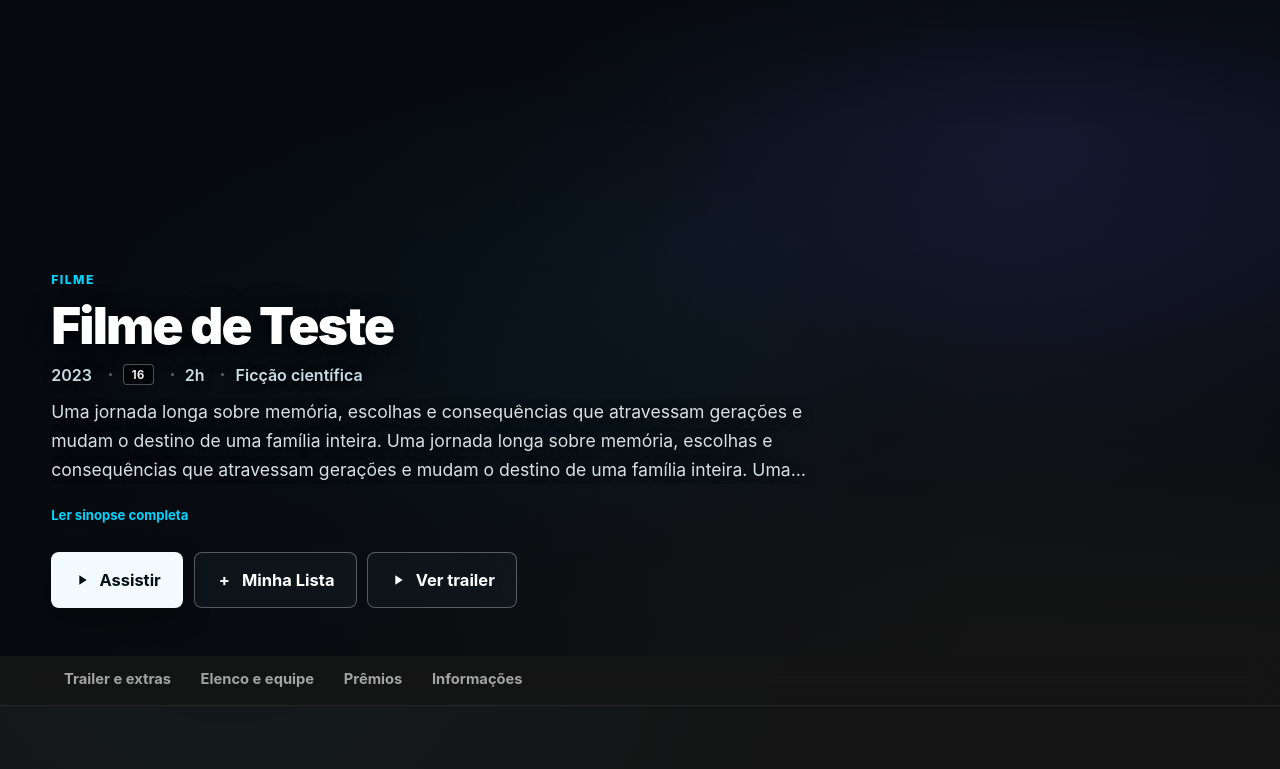
Test: organises film information, expands long synopses and hides empty episode sections
Expected: the heading "Filme de Teste" is shown, top-left (51, 294), bottom-right (393, 356)
Expected: the list item "2h" is shown, top-left (185, 365), bottom-right (236, 385)
Click the button "Ler sinopse completa" at (120, 515), box top-left (51, 496), bottom-right (188, 534)
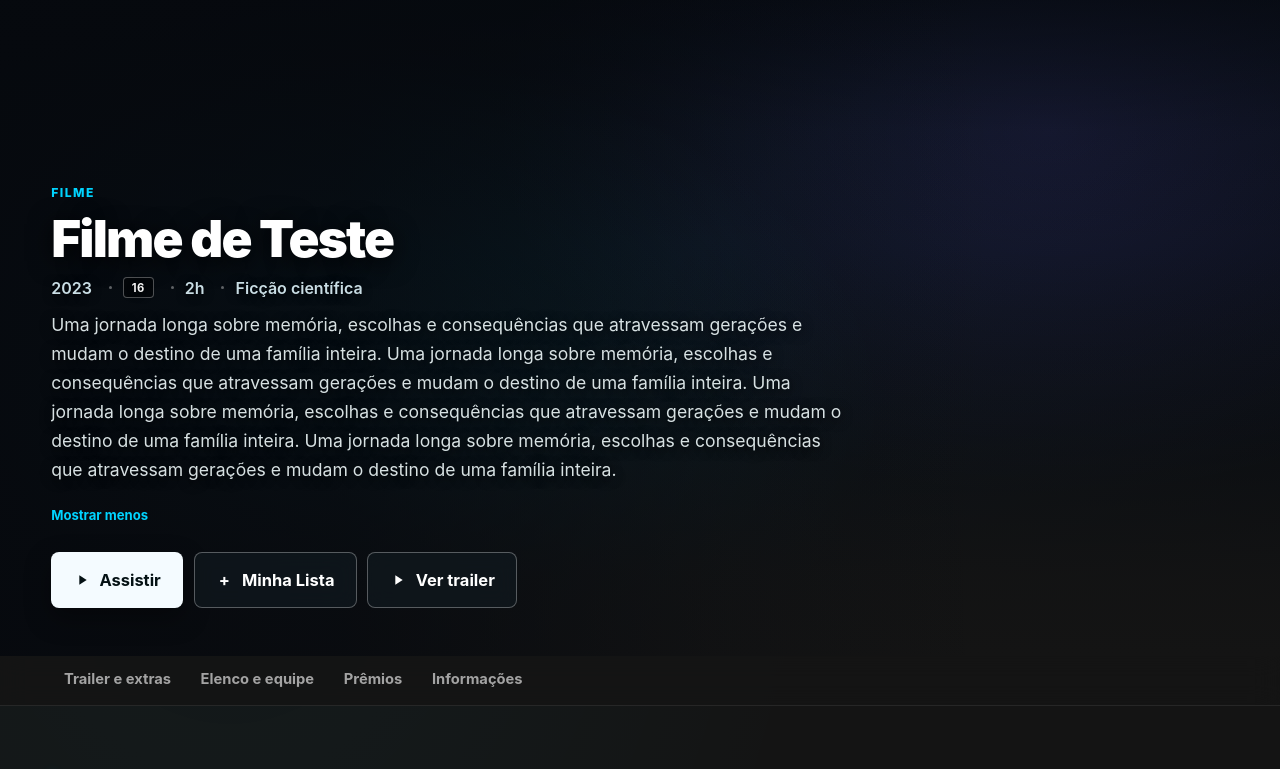
Expected: the button "Mostrar menos" is expanded, top-left (51, 496), bottom-right (148, 534)
